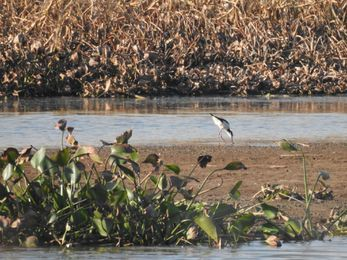water_hyacinth: (2, 138, 343, 245)
